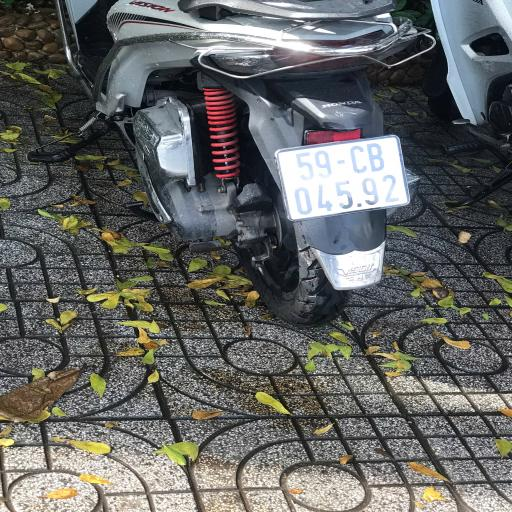0: (284, 185, 319, 222)
2: (376, 171, 407, 207)
4: (316, 178, 339, 222)
5: (291, 146, 319, 188), (338, 175, 356, 220)
9: (312, 149, 341, 187), (360, 168, 380, 212)
B: (364, 138, 395, 176)
C: (342, 140, 372, 183)
